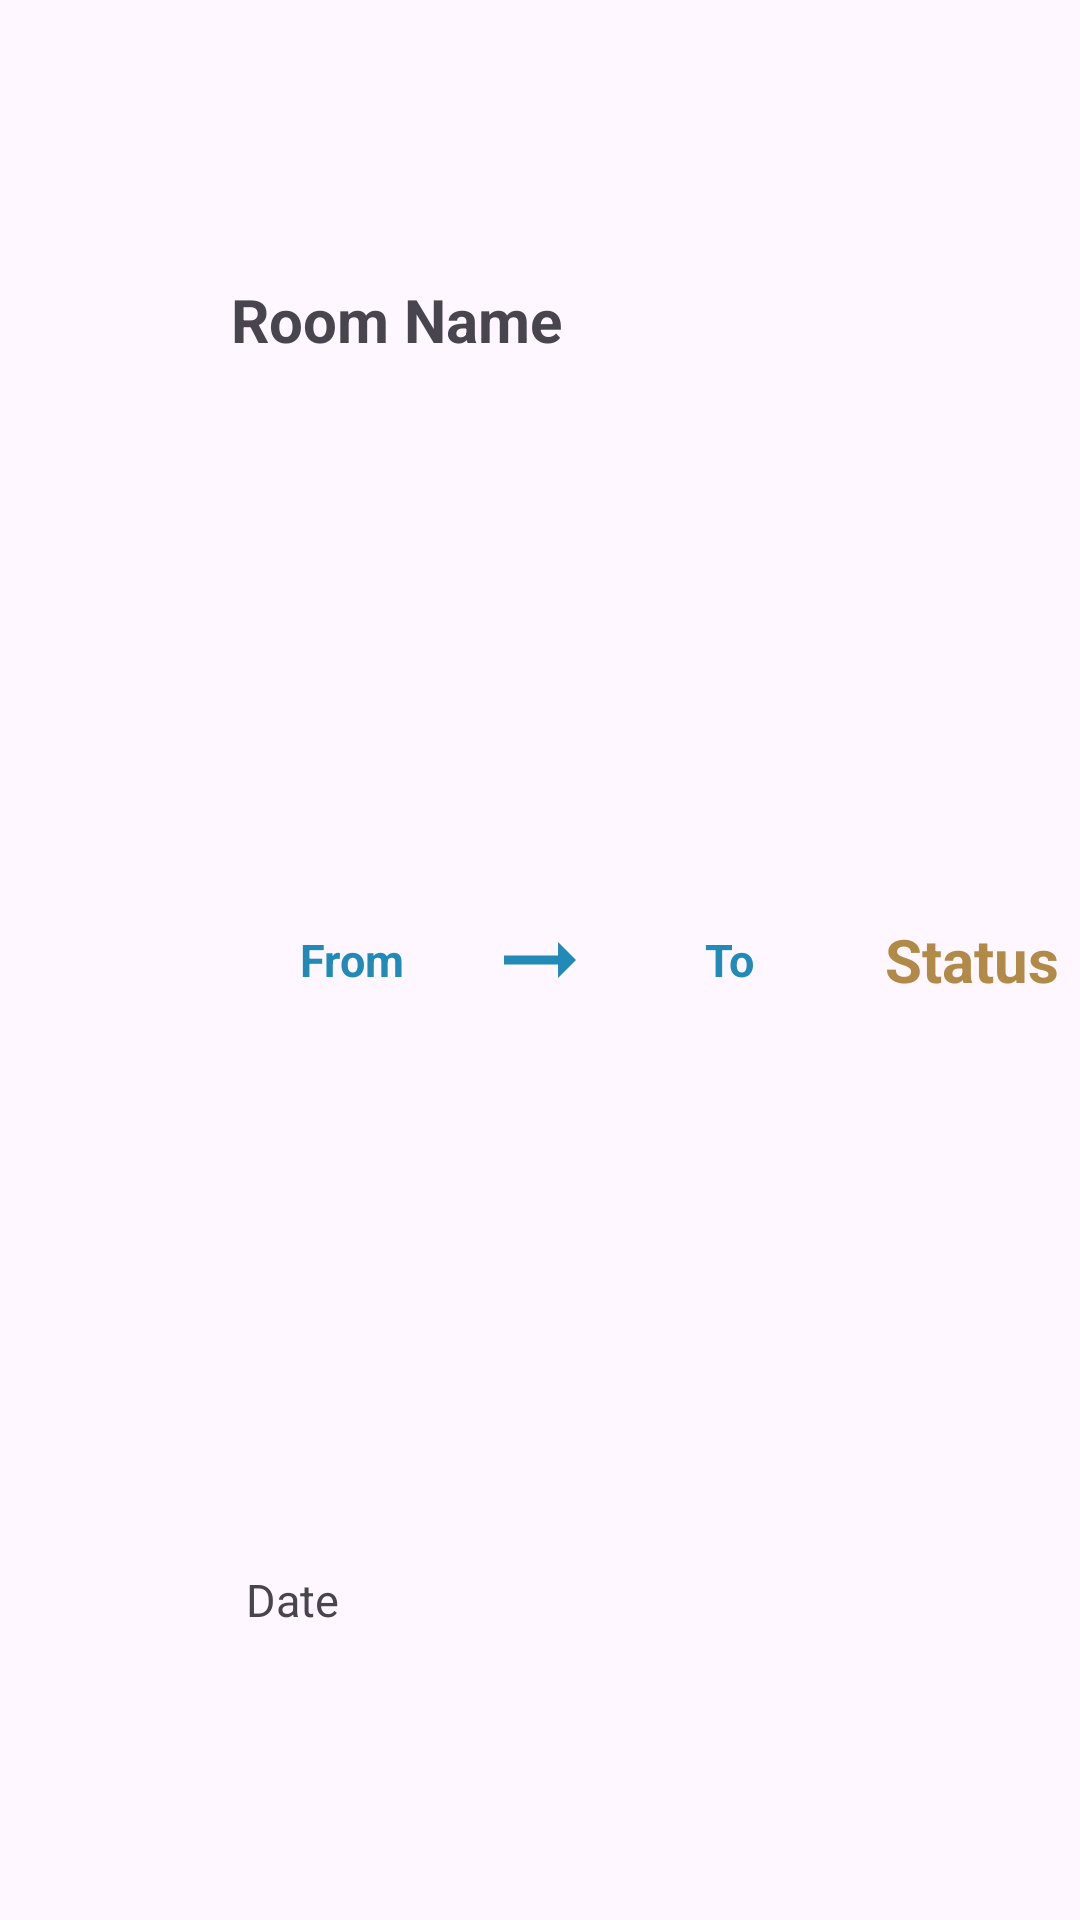

Icons on this 1080px×1920px Android screen, each with its box as (x1, y1, x2, y2):
arrow: (504, 942, 576, 978)
